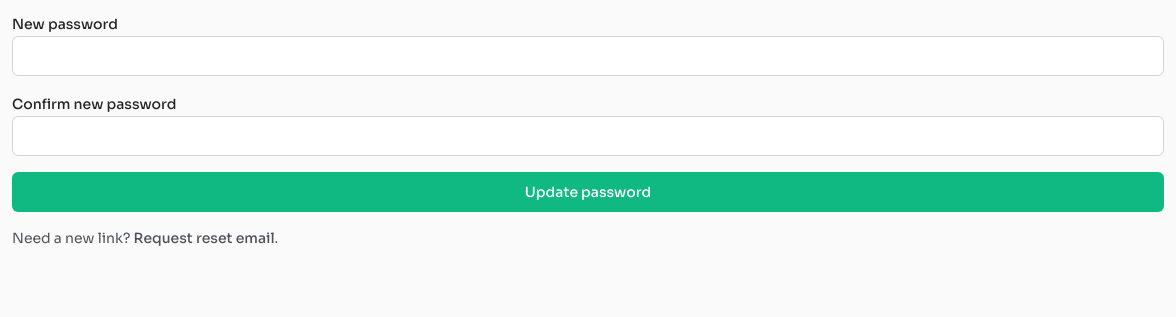
Test: ResetPasswordForm › shows error when passwords don't match
Expected: the button "Update password" is enabled, [12, 172, 1164, 212]
Type "newpass123" into the password field labelled "New password" at (588, 56), box [12, 36, 1164, 76]
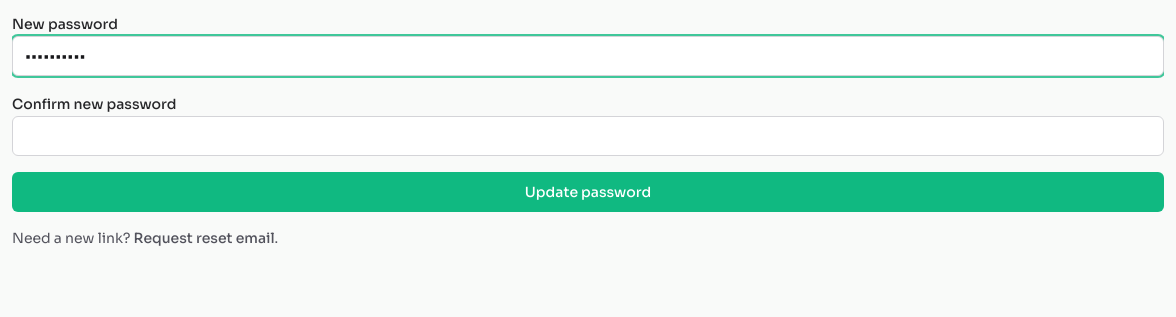
Type "different" into the password field labelled "Confirm new password" at (588, 136), box [12, 116, 1164, 156]
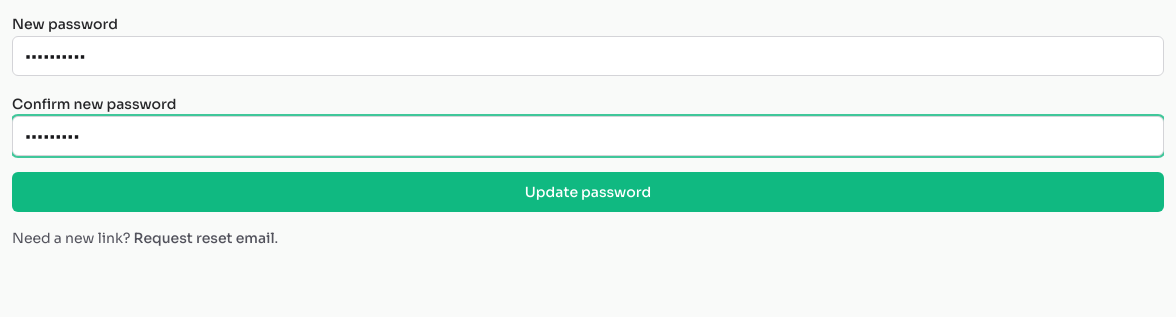
Click the button "Update password" at (588, 192), box [12, 172, 1164, 212]
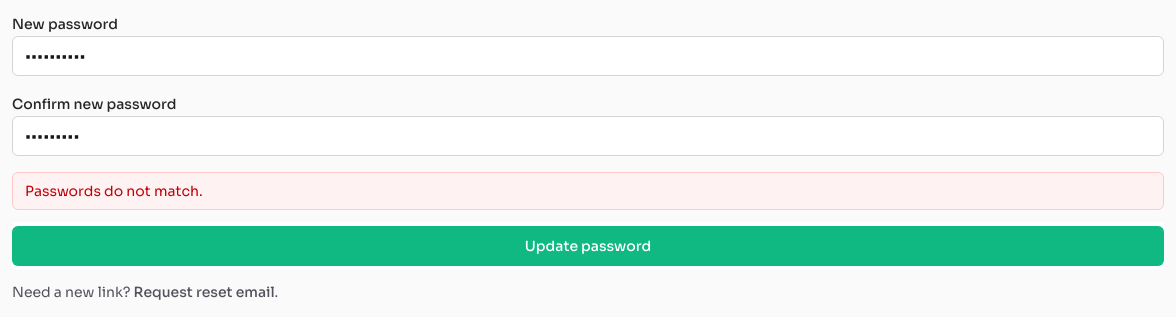
Result: the text "Passwords do not match." is shown at [12, 172, 1164, 210]
